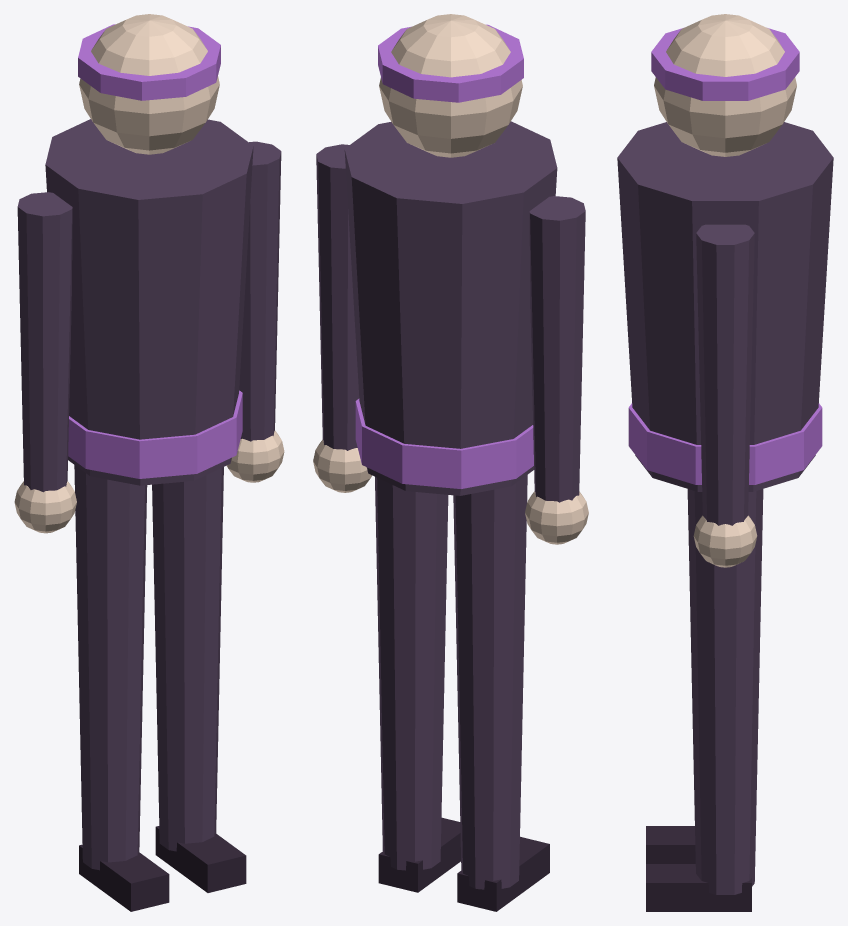
The picture shows the model from 3 angles, left to right: view 1: azimuth 30°, elevation 25°; view 2: azimuth 150°, elevation 25°; view 3: azimuth 270°, elevation 25°; orthographic projection. The views are drawn at different scales.
Visible parts, largest first — view 1: torso, thighR, thighL, armR, head, armL, belt, band, footL, footR, handR, handL; view 2: torso, thighR, thighL, armR, head, armL, belt, band, footR, footL, handR, handL; view 3: torso, thighL, armL, head, belt, band, footL, handL, footR.
Part boxes in pixels (x1,y1,x2,y2): torso: (45, 119, 253, 485); thighR: (74, 465, 147, 870); thighL: (152, 467, 223, 851); armR: (17, 192, 72, 492); head: (79, 14, 219, 154); armL: (239, 141, 281, 441); belt: (68, 390, 242, 478); band: (78, 24, 220, 100); footL: (155, 826, 246, 892); footR: (79, 844, 169, 911); handR: (14, 481, 76, 533); handL: (226, 430, 284, 482); torso: (344, 121, 557, 495); thighR: (453, 475, 527, 889); thighL: (375, 477, 448, 870); armR: (529, 196, 585, 502); head: (379, 14, 522, 157); armL: (316, 144, 359, 450); belt: (355, 398, 533, 488); band: (378, 24, 523, 102); footR: (457, 836, 549, 911); footL: (378, 817, 460, 892); handR: (525, 491, 588, 544); handL: (313, 439, 372, 492); torso: (617, 122, 833, 491); thighL: (687, 489, 763, 894); armL: (696, 224, 754, 525); head: (654, 14, 796, 156); belt: (628, 403, 822, 484); band: (651, 28, 799, 100); footL: (646, 864, 751, 911); handL: (693, 515, 757, 567); footR: (646, 826, 695, 863).
Bounding box in the file's own units: 0.579 × 1.79 × 0.408.
